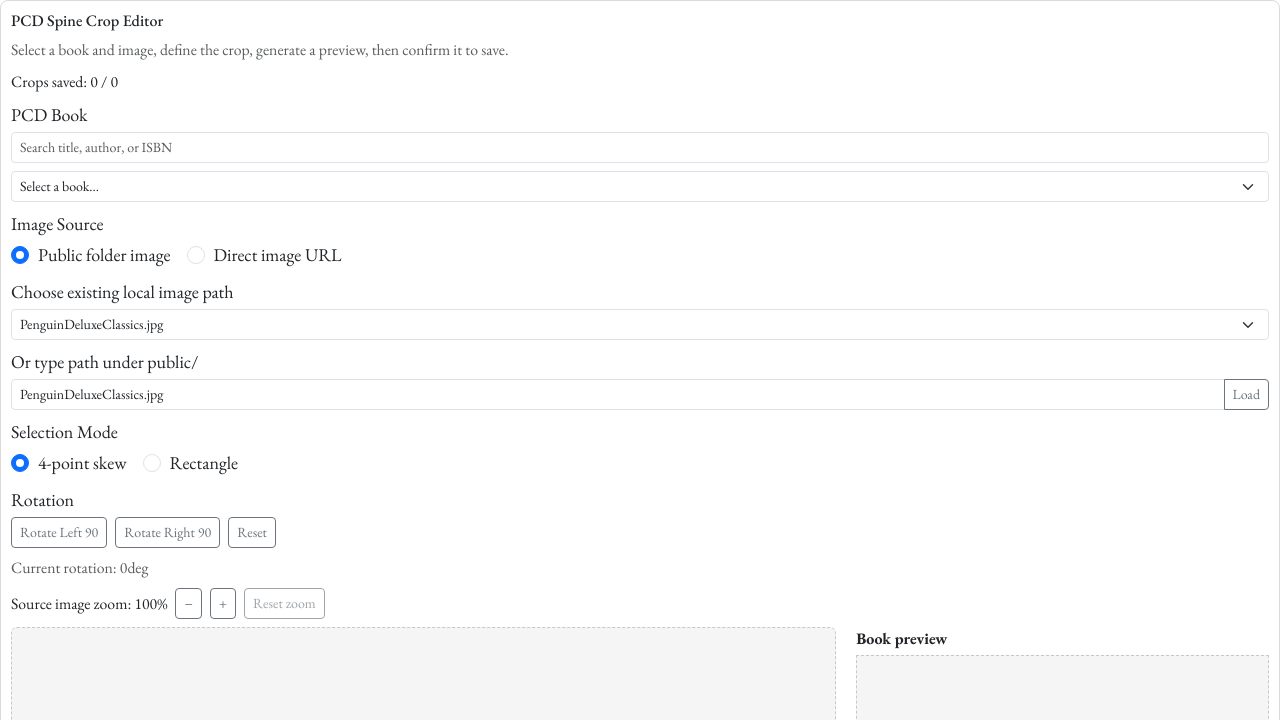
SpineCropEditor save feedback › keeps the recent URL dropdown visible when there are no saved URLs
The width and height of the screenshot is (1280, 720).
Click the radio button labelled "Direct image URL" at (196, 255), box [186,246,204,264]
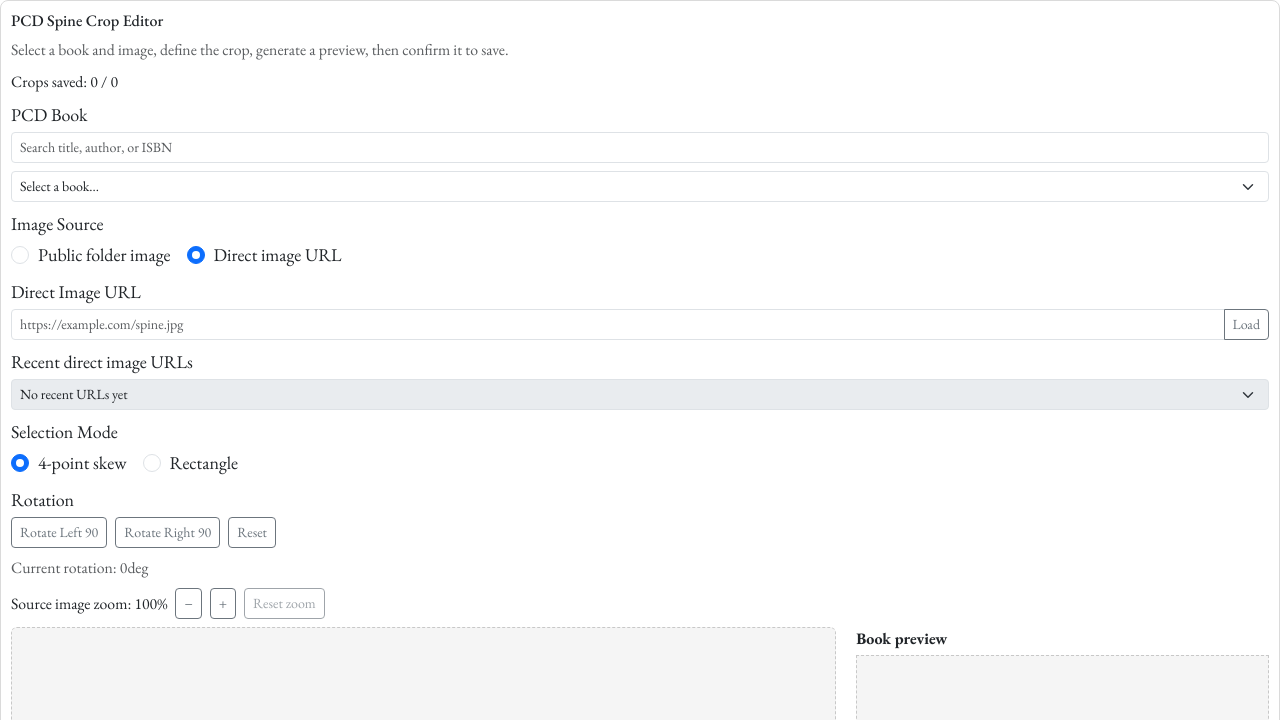
Now the dropdown labelled "Recent direct image URLs" is disabled, box [11,379,1269,410]
